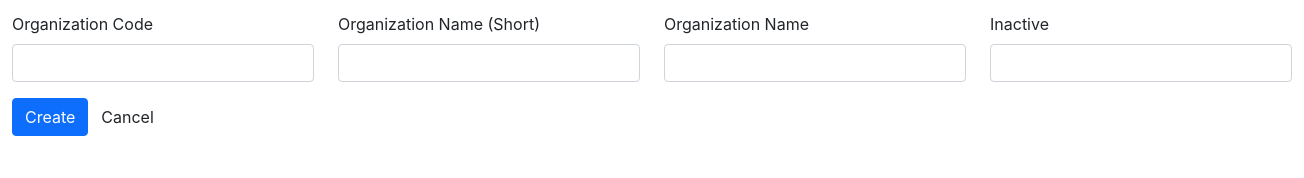
Test: UCSBOrganizationForm tests › Correct Error messages on missing input
What coordinates should you click on to do the following:
click the button with test id "UCSBOrganizationForm-submit"
I would click on:
 (50, 117)
Its box is left=12, top=98, right=88, bottom=136.
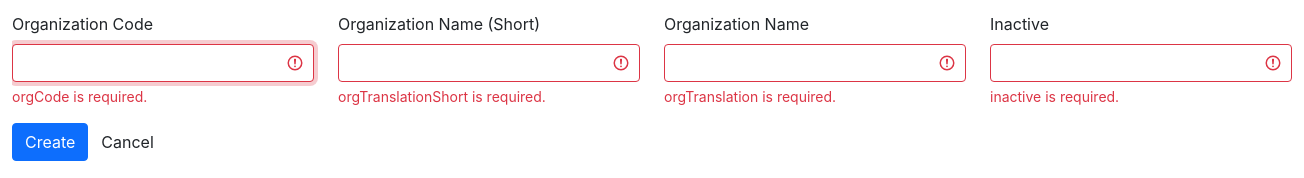
Expected: the text "orgCode is required." is shown, left=12, top=88, right=147, bottom=105
Expected: the text "orgTranslationShort is required." is shown, left=338, top=88, right=546, bottom=105
Expected: the text "orgTranslation is required." is shown, left=664, top=88, right=836, bottom=105
